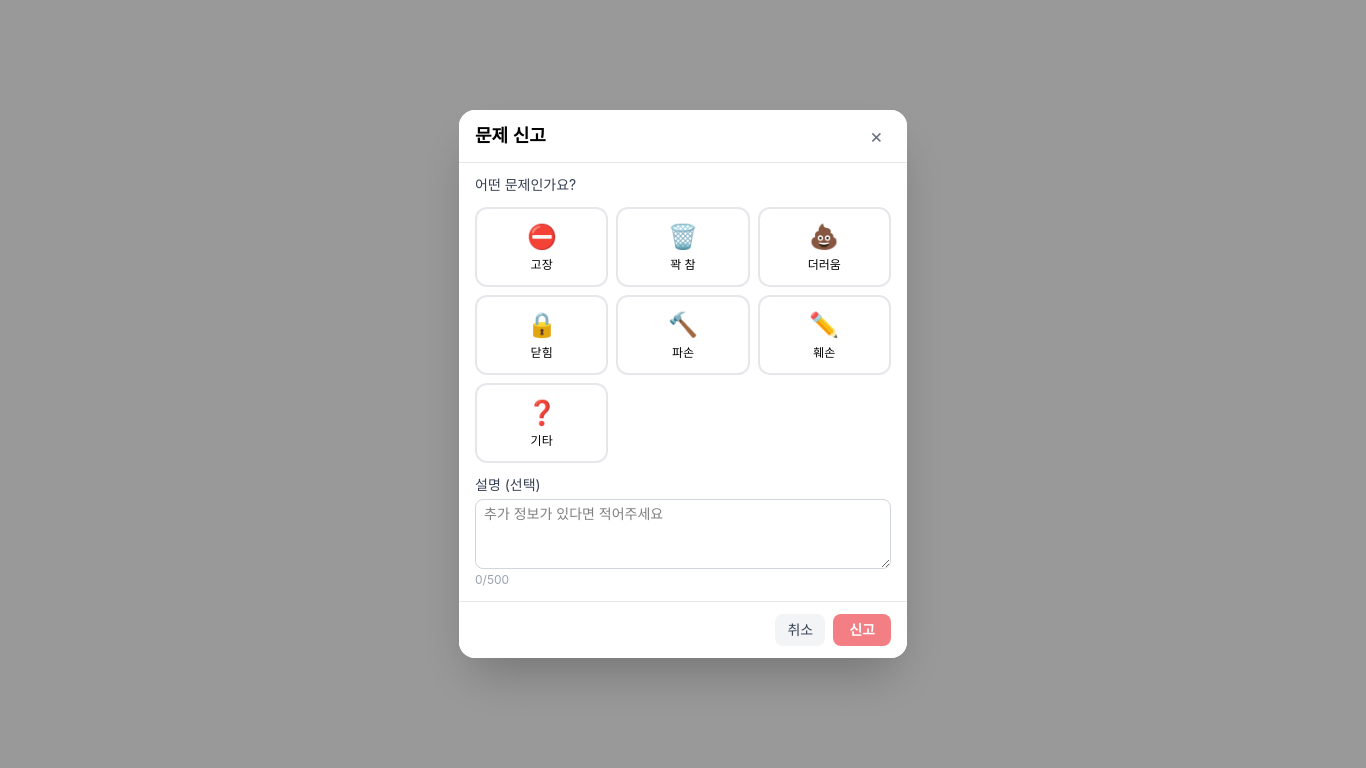
Test case: ReportSubmitModal › submit disabled until a type is picked
Expected: the button with test id "report-submit-button" is disabled, [833,614,891,646]
Click the button with test id "report-type-dirty": (824, 247) [758,207,891,287]
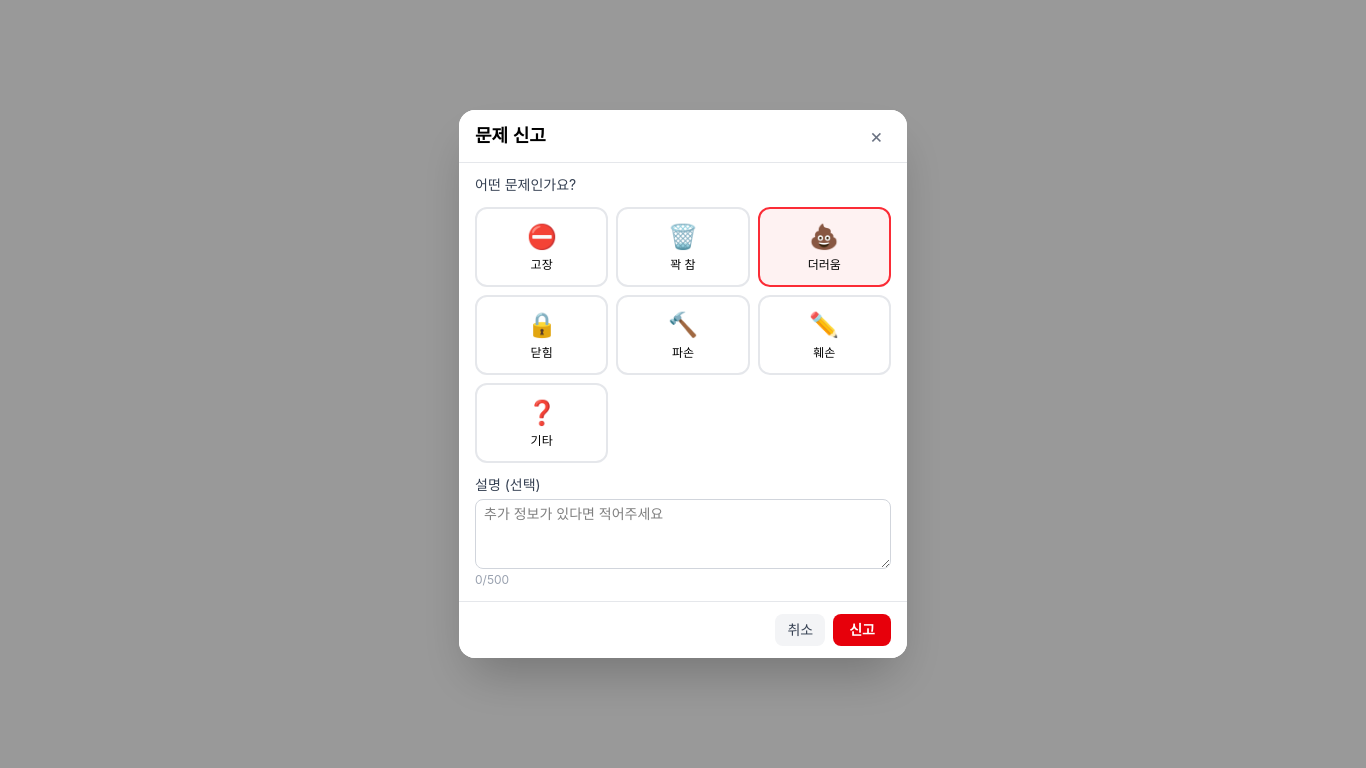
Result: the button with test id "report-submit-button" is enabled at [833,614,891,646]
